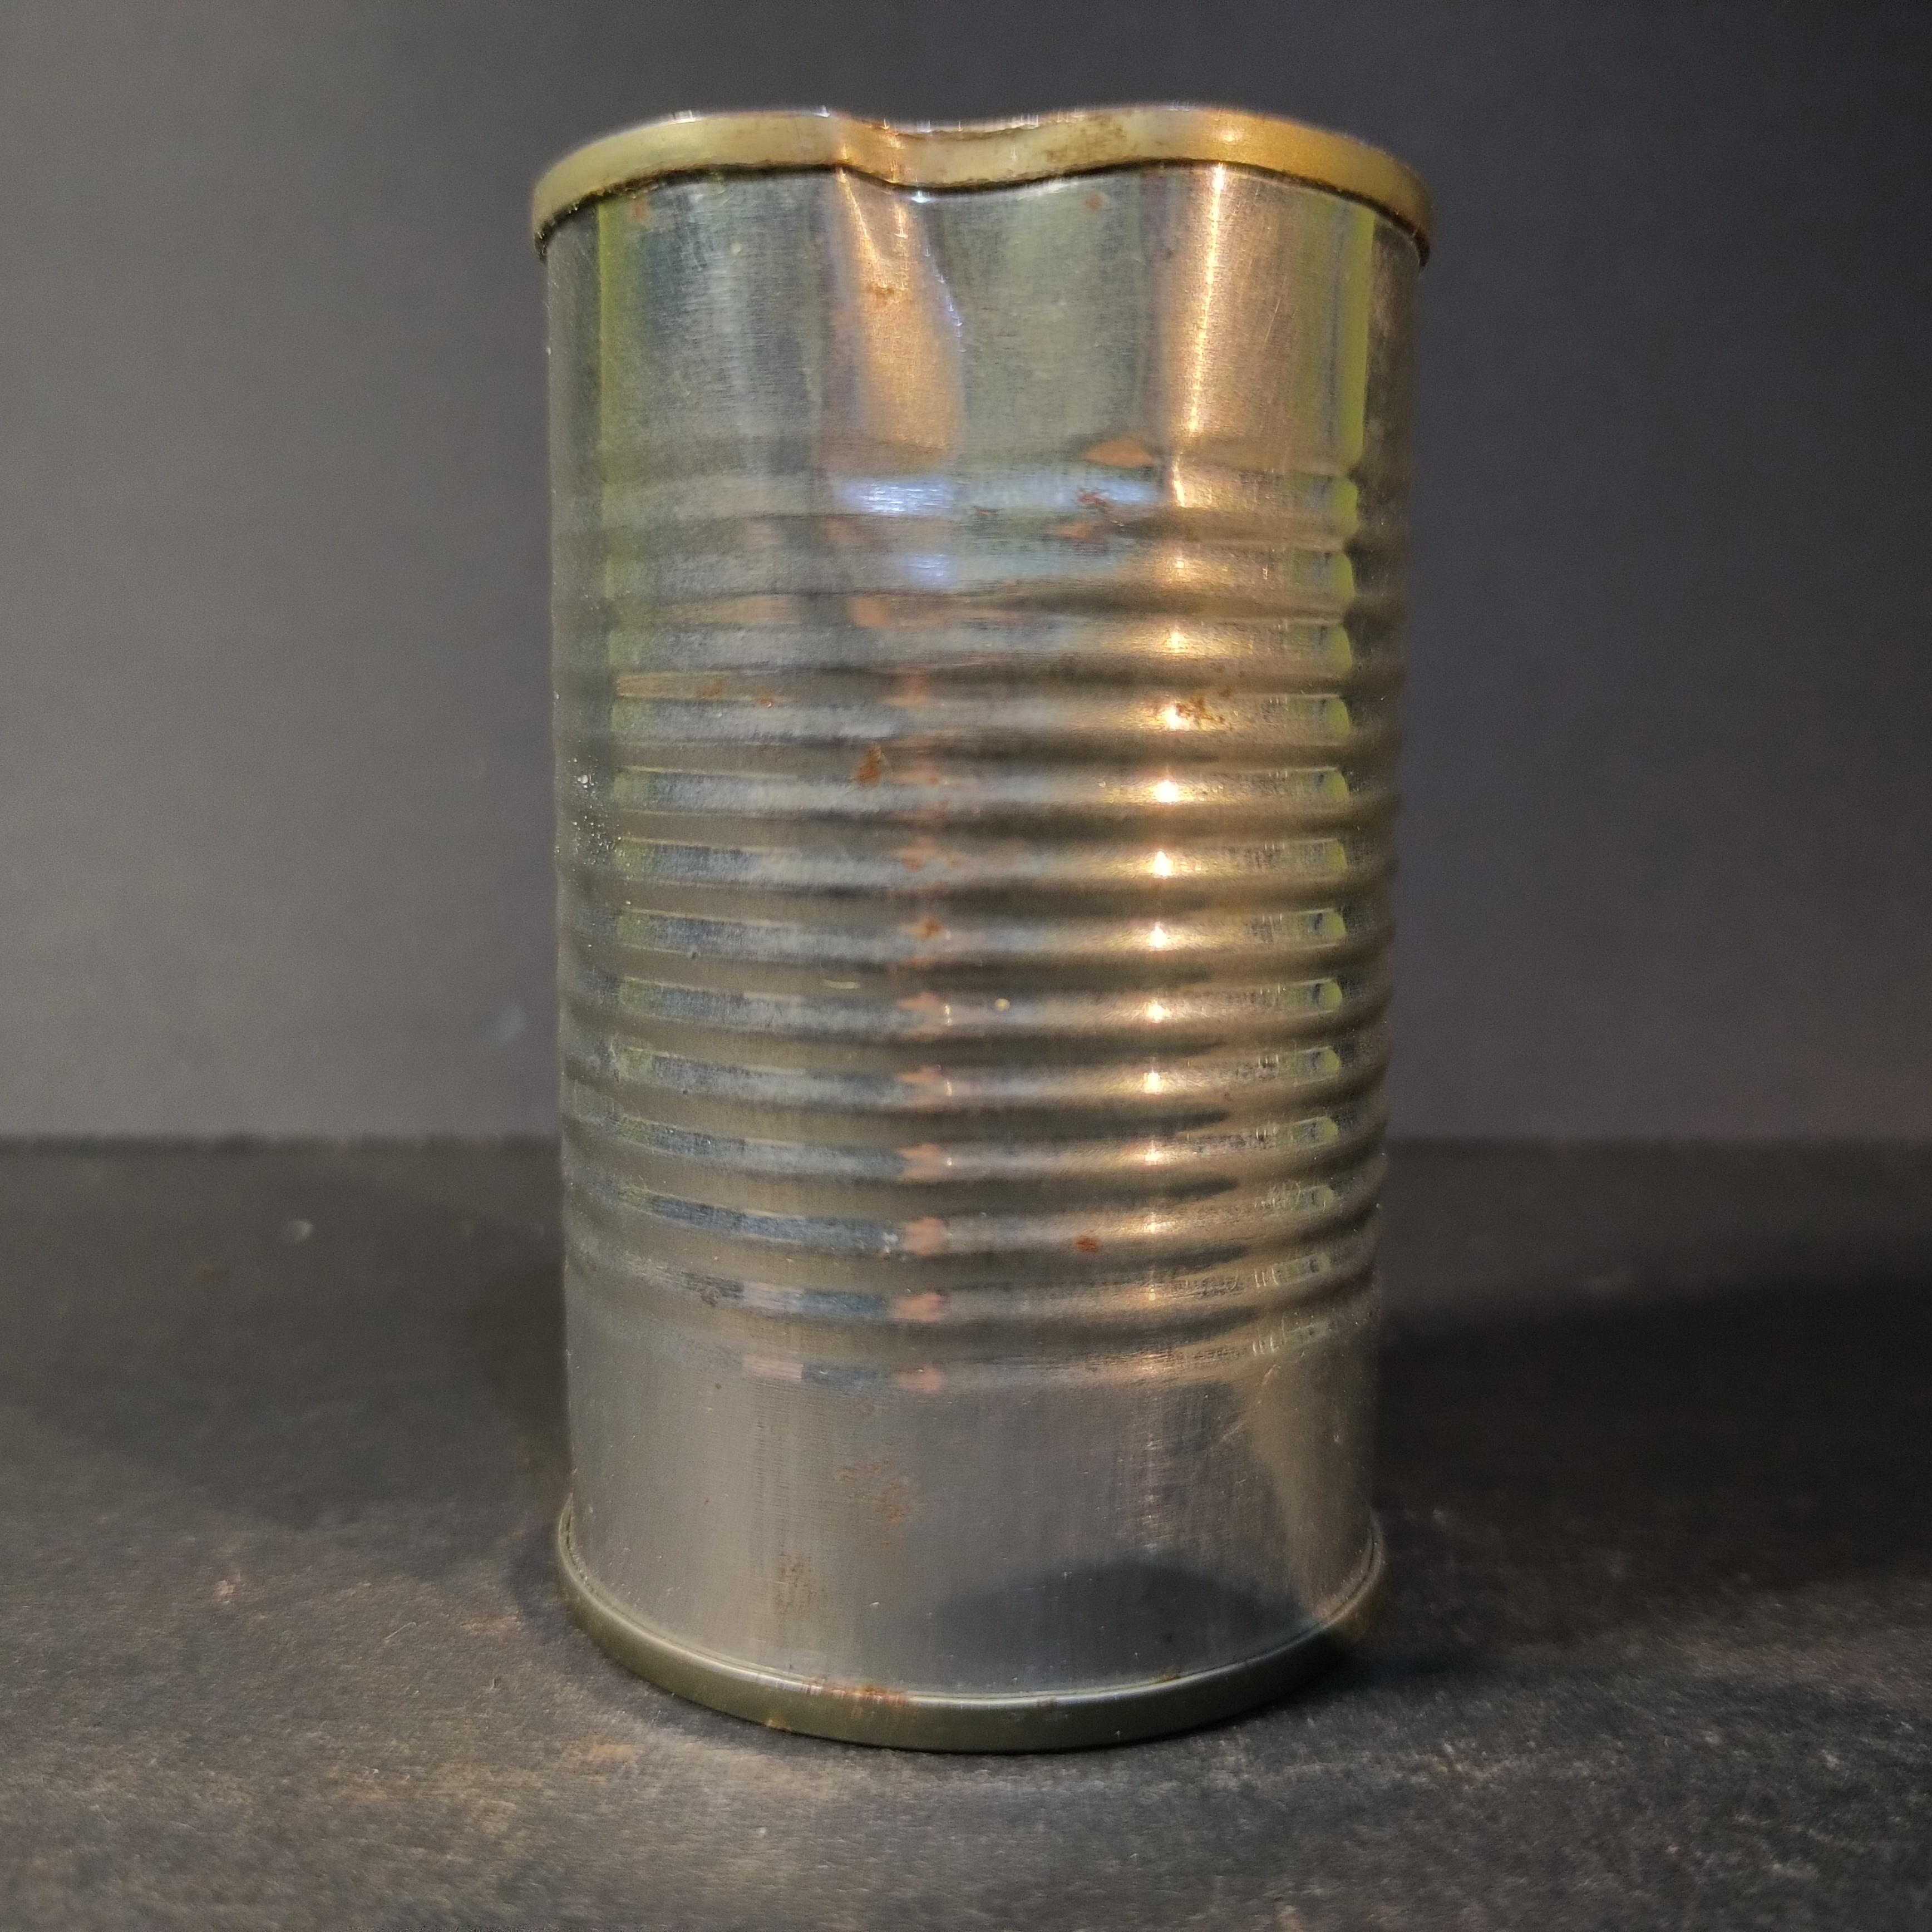Critical Defect: (524, 94, 1437, 1764)
